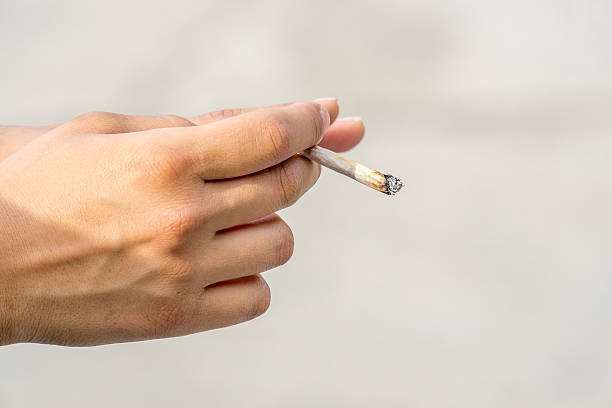cigarette: (303, 146, 406, 194)
